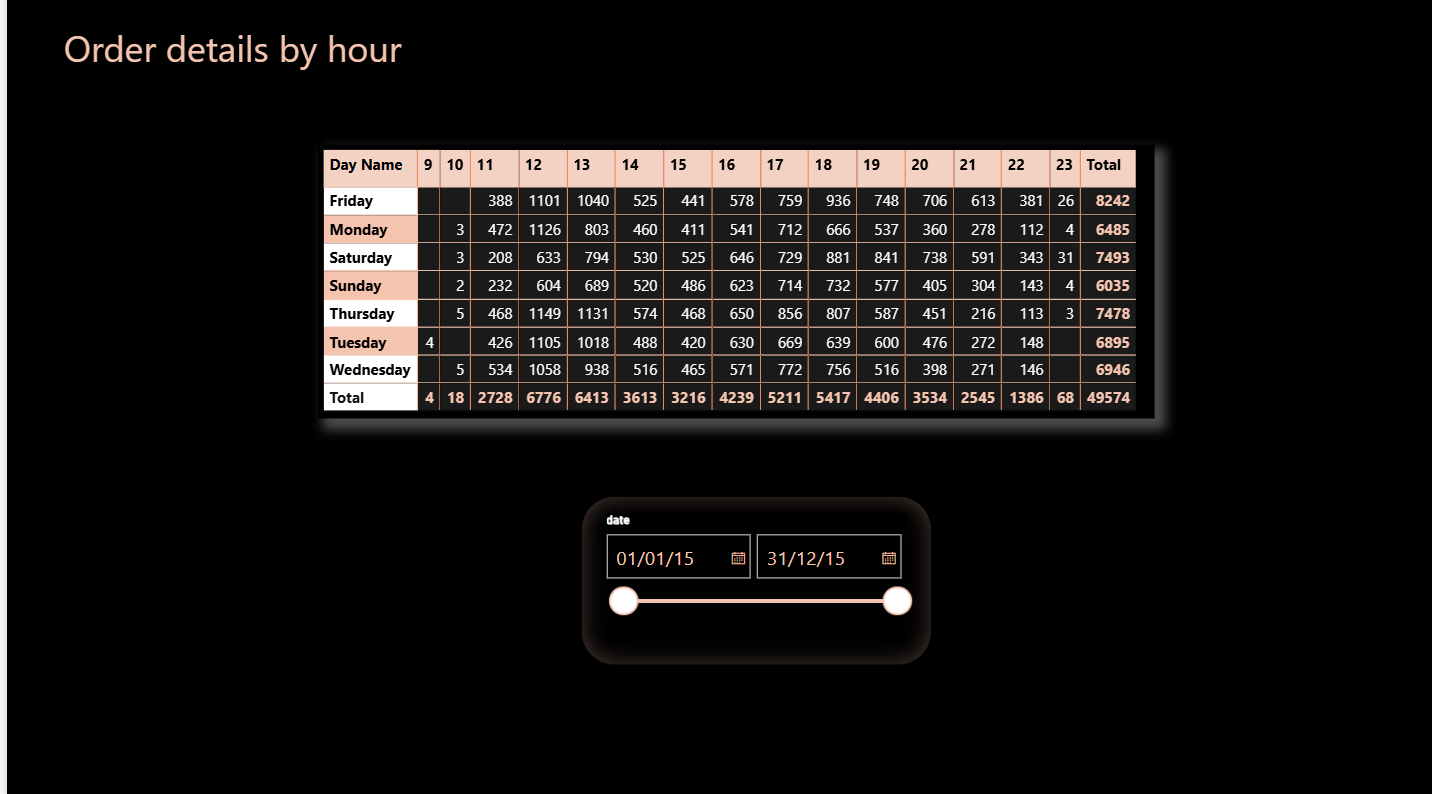

The dashboard page shown, as its layout file describes it:
{"tool":"powerbi","page":{"name":" Order details by hour","canvas":[1280,720],"ordinal":4},"visuals":[{"type":"pivotTable","fields":{"Columns":["orders_Lookup.Hour"],"Rows":["orders_Lookup.Day Name"],"Values":["Sum(order_details.quantity)"]},"box":[277.2,135.8,745.1,244.3],"z":0},{"type":"slicer","fields":{"Values":["orders_Lookup.date"]},"box":[511.4,448.6,312.9,151.4],"z":1000},{"type":"textbox","box":[45.7,22.9,358.6,80],"z":2000}]}

Visuals, with their boxes in screenshot pixels (x1, y1, x2, y2), scaled from the page's 1280x720 canvas onto the 1432x794 screenshot:
pivotTable - orders_Lookup.Hour x orders_Lookup.Day Name: box(310, 150, 1144, 419)
slicer - orders_Lookup.date: box(572, 495, 922, 662)
textbox: box(51, 25, 452, 113)
